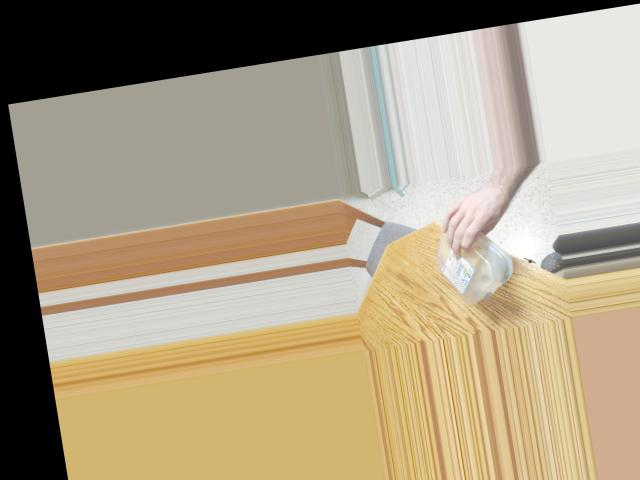cheese: (427, 204, 513, 310)
